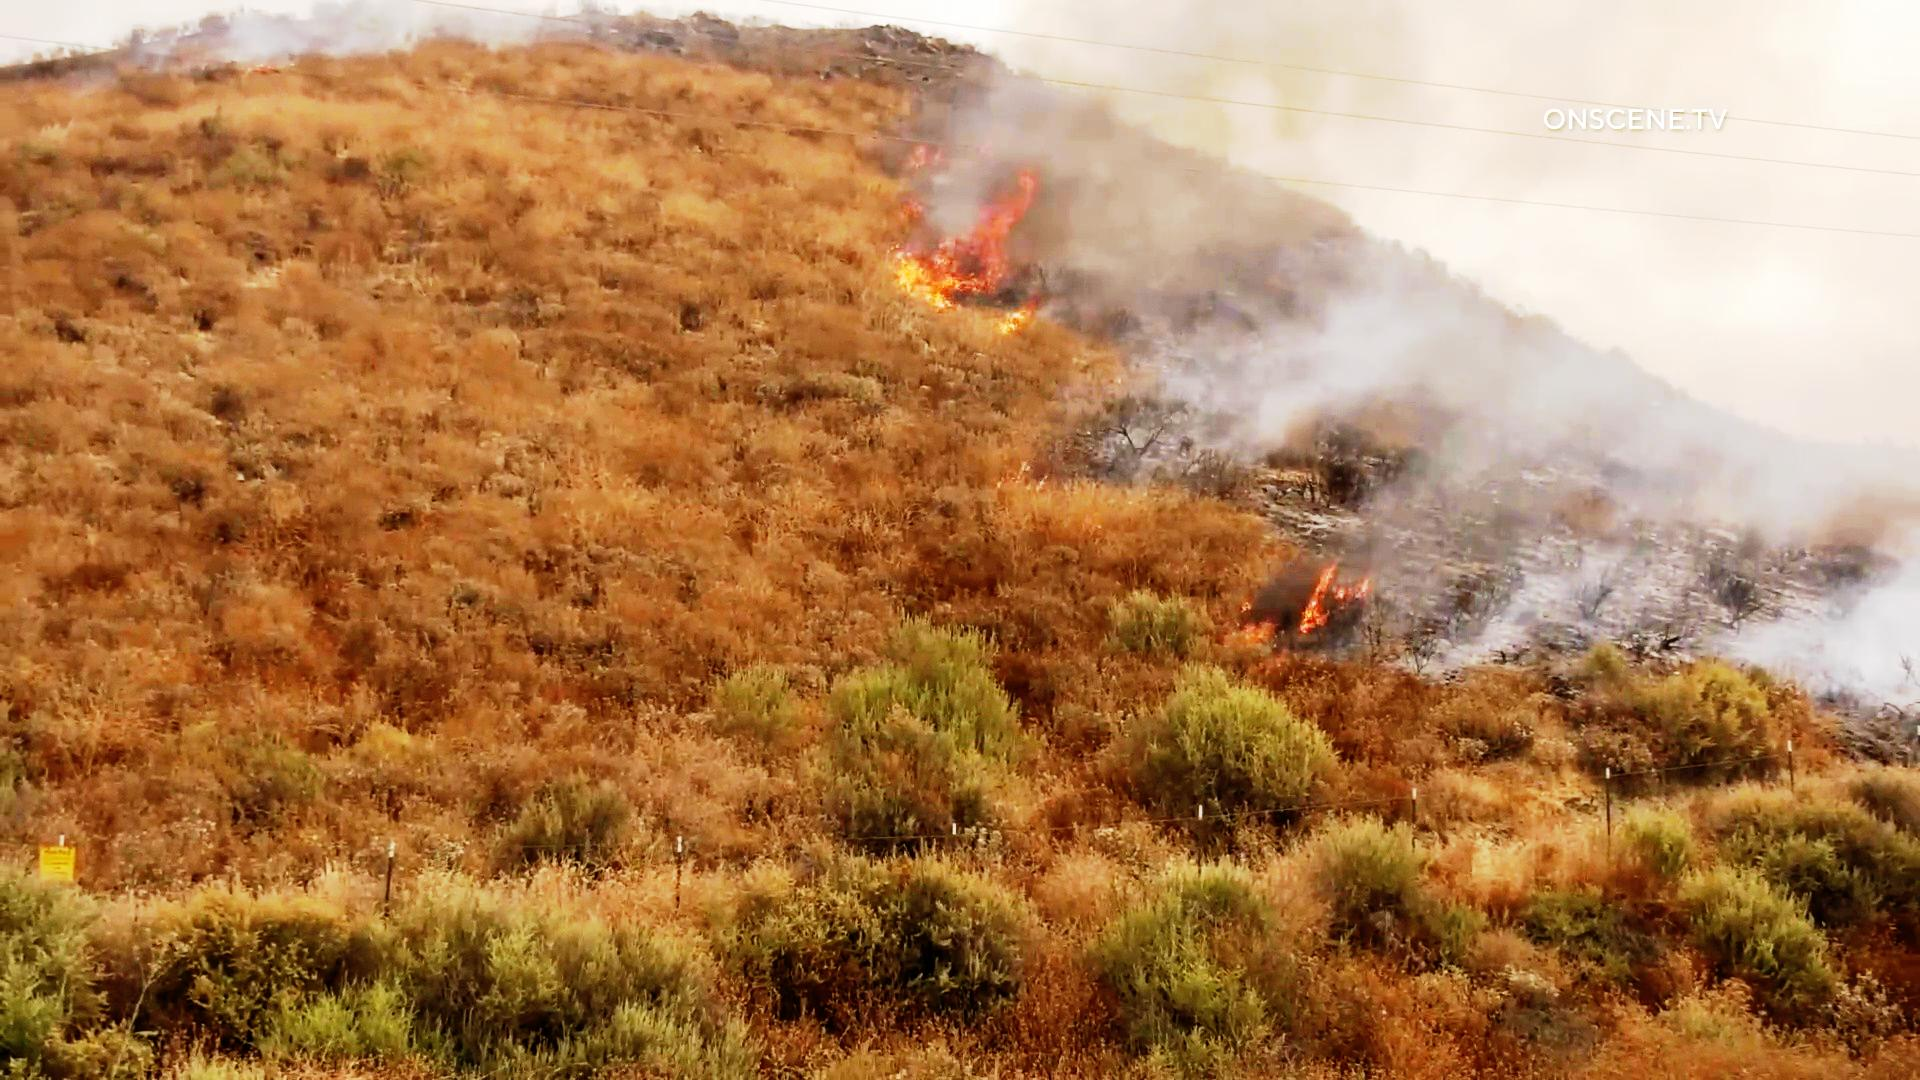fire: (894, 166, 1043, 309)
